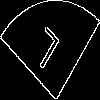L: (25, 25, 61, 79)
